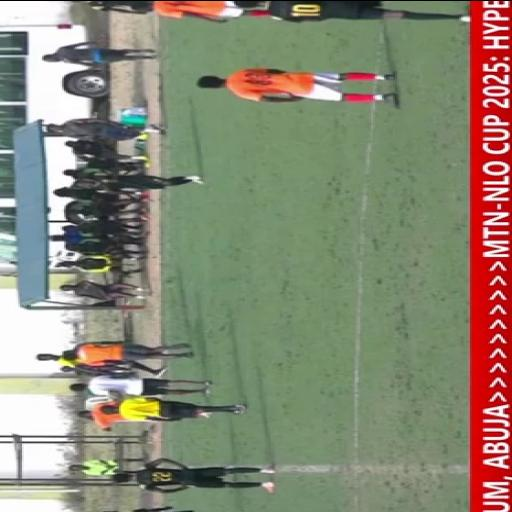distract: (63, 338, 194, 365), (73, 372, 215, 396)
referee: (97, 396, 247, 422)
team1: (183, 59, 409, 108), (126, 0, 232, 20)
team2: (100, 458, 286, 494), (234, 0, 466, 24), (74, 170, 210, 194), (90, 504, 248, 512)
